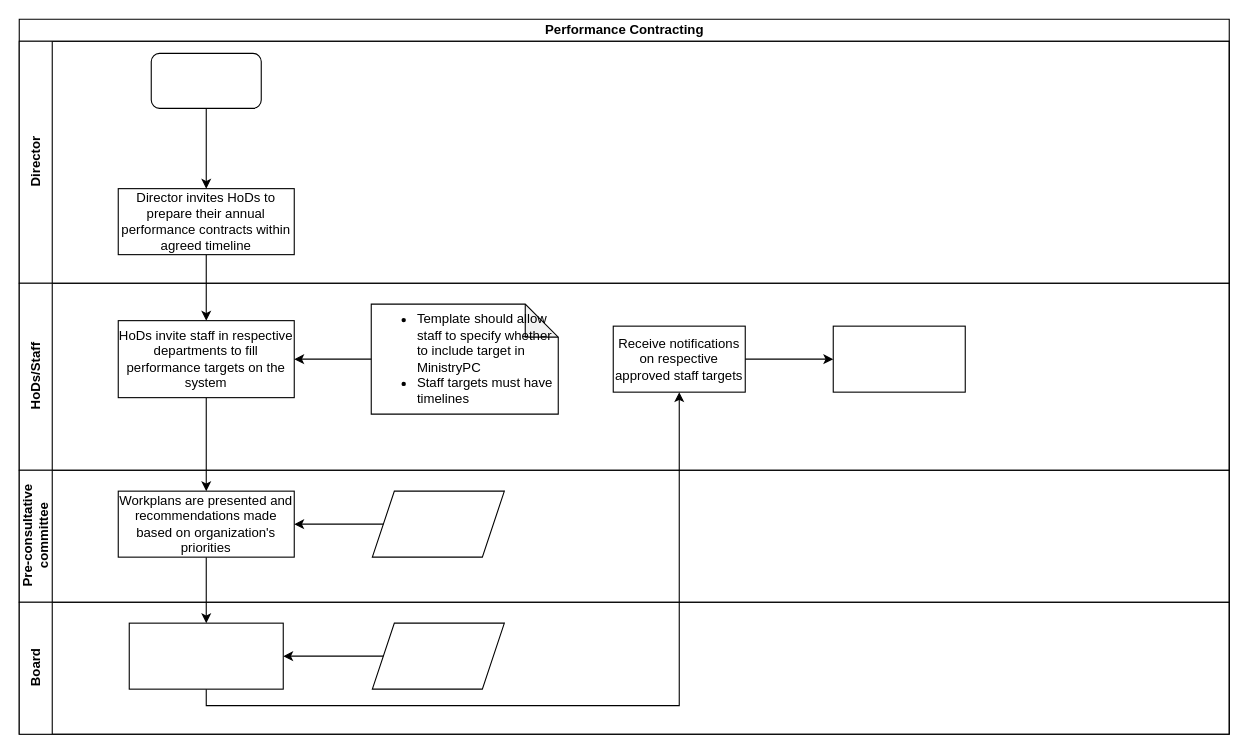
Some shapes in this 1249 by 754 pixel diagram are drawn without their labels. The shapes that lost their labels are listed below. From the top down, each one's centre as x and y in pixels, then its label:
At pixel 205 80: "Start".
At pixel 898 358: "Staff and HoDs update the staff targets".
At pixel 437 523: "Committee input".
At pixel 205 655: "Recommended workplans are reviewd by the board".
At pixel 437 655: "Board Input".
